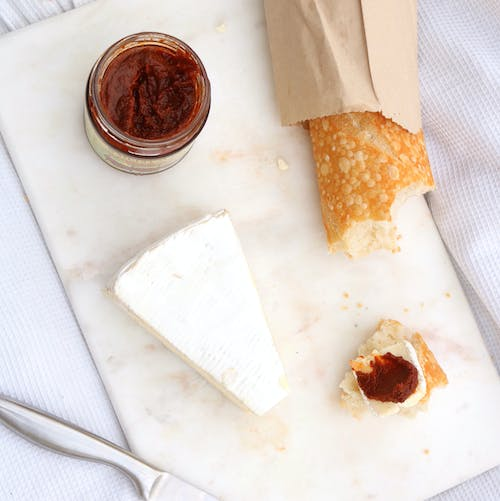knife: (0, 393, 222, 501)
